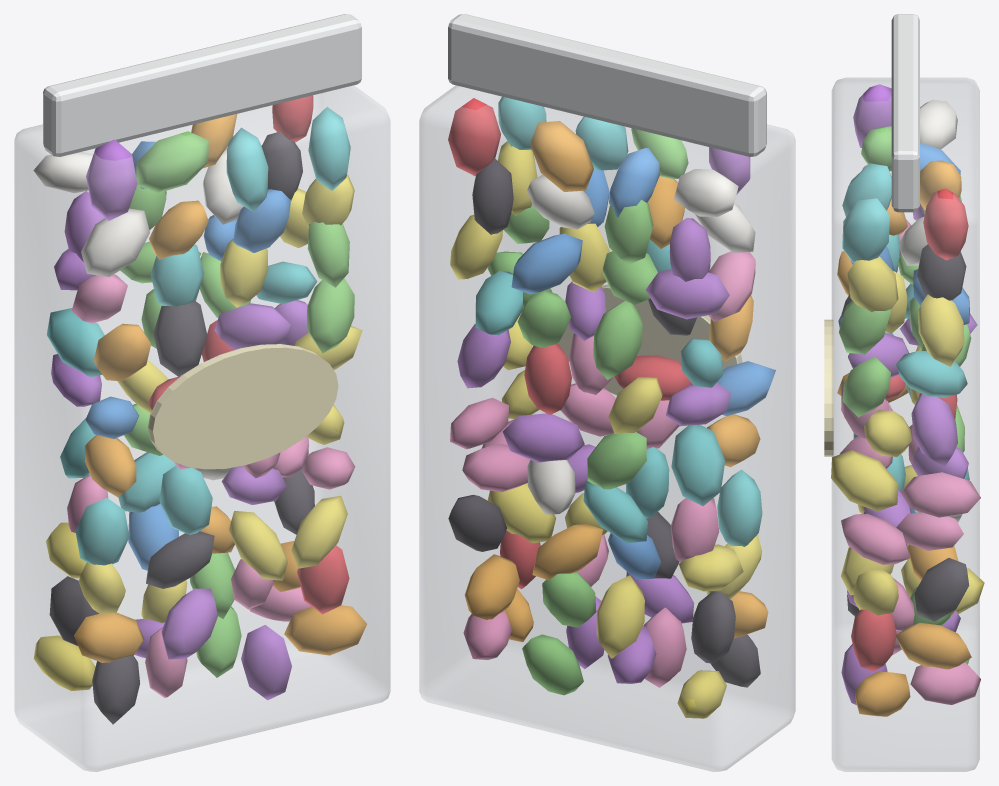
Rendered from JellyBean.glb.
3 views of the same model, side by side, from view 1: azimuth 30°, elevation 25°; view 2: azimuth 150°, elevation 25°; view 3: azimuth 270°, elevation 25° (orthographic). The views are drawn at different scales.
Visible parts, largest first — view 1: JellyBeanBag; view 2: JellyBeanBag; view 3: JellyBeanBag.
Boxes of the visible parts, x1,y1,x2,y2 form: JellyBeanBag: (14, 14, 390, 771); JellyBeanBag: (419, 14, 795, 771); JellyBeanBag: (824, 14, 984, 771).
Bounding box in the file's own units: 0.5 × 1.02 × 0.238.
